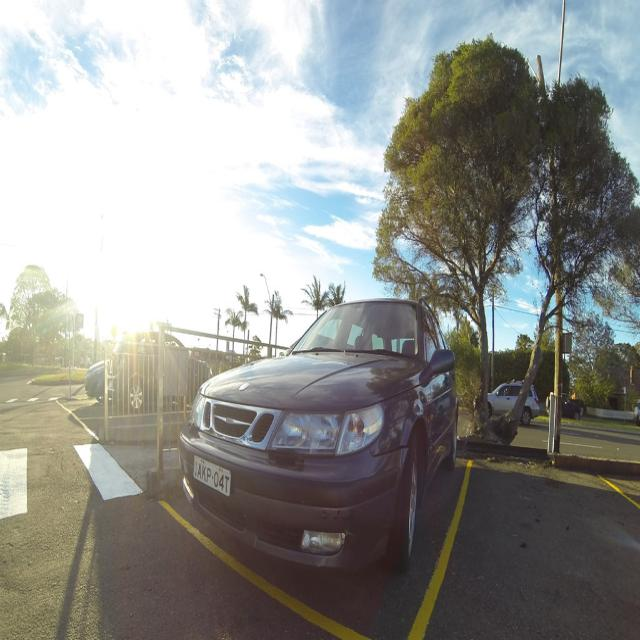car: (179, 293, 458, 570)
